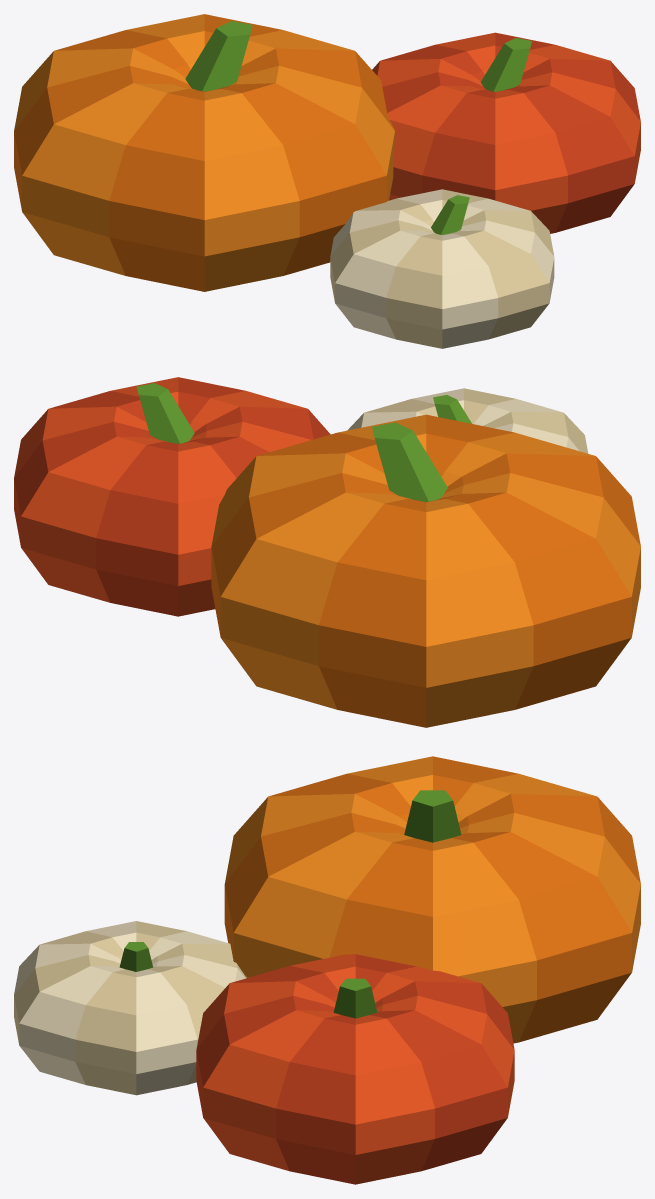
The model's file is pumpkin-trio-1x1.glb.
3 views of the same model, one above another, from view 1: azimuth 30°, elevation 25°; view 2: azimuth 150°, elevation 25°; view 3: azimuth 270°, elevation 25° (orthographic). The views are drawn at different scales.
Visible parts, largest first — view 1: pumpkin-trio-1x1; view 2: pumpkin-trio-1x1; view 3: pumpkin-trio-1x1.
Part boxes in pixels (left/top/right/bottom): pumpkin-trio-1x1: left=14, top=14, right=640, bottom=348; pumpkin-trio-1x1: left=14, top=377, right=640, bottom=727; pumpkin-trio-1x1: left=14, top=756, right=640, bottom=1184.
Bounding box in the file's own units: 0.9 × 0.3141 × 0.775.
Materials: 1 (1 with a texture image).
